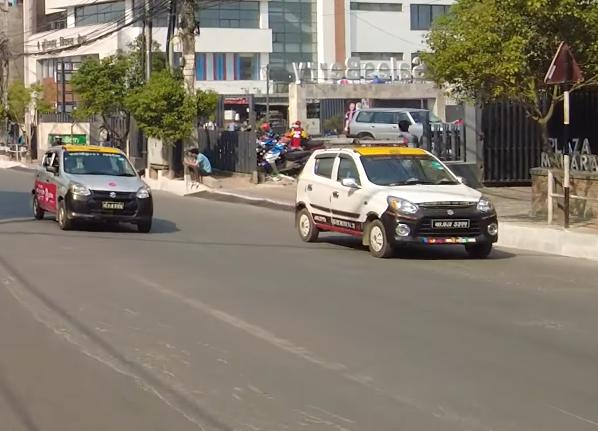taxi: (296, 142, 504, 270), (33, 137, 149, 236)
